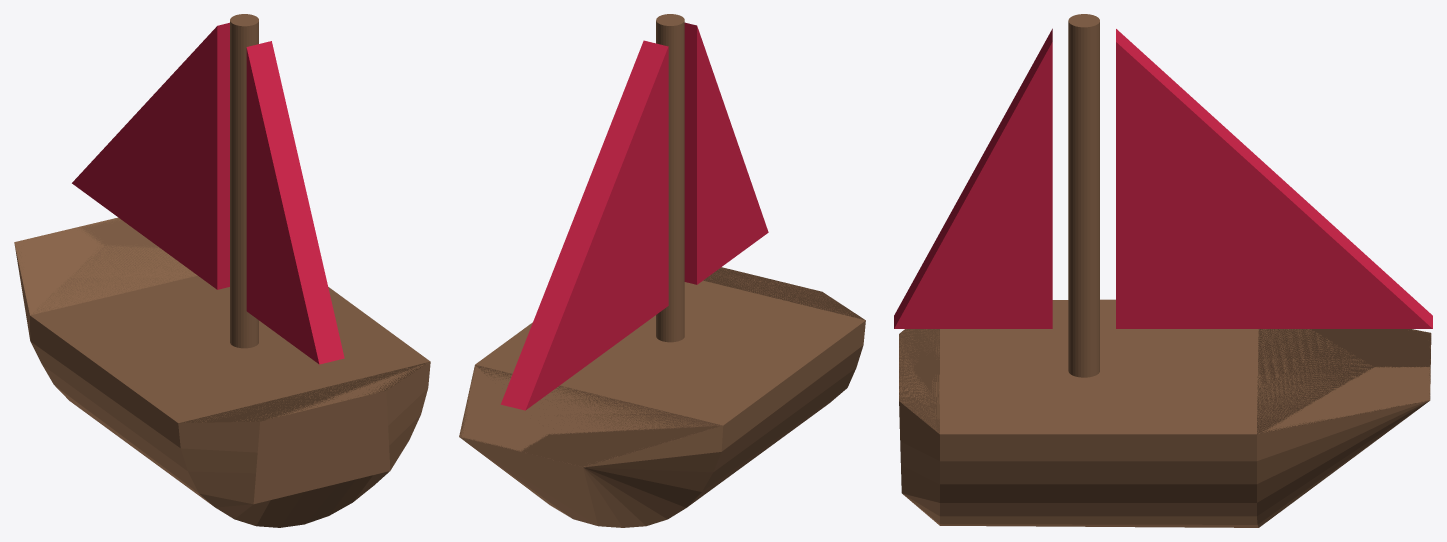
Rendered from sailboat.fbx.
3 renders of one model, left to right at view 1: azimuth 30°, elevation 25°; view 2: azimuth 150°, elevation 25°; view 3: azimuth 270°, elevation 25°, orthographic. The views are drawn at different scales.
Parts seen in each view (by area): view 1: Cylinder, Cube, Cube_001, Cylinder_001; view 2: Cylinder, Cube, Cube_001, Cylinder_001; view 3: Cylinder, Cube, Cube_001, Cylinder_001.
Boxes of the visible parts, box(x1,y1,x2,y2) form: Cylinder: box(14, 217, 430, 527); Cube: box(72, 22, 229, 289); Cube_001: box(246, 41, 344, 364); Cylinder_001: box(230, 14, 258, 348); Cylinder: box(459, 267, 865, 527); Cube: box(500, 40, 668, 410); Cube_001: box(684, 22, 768, 284); Cylinder_001: box(656, 14, 684, 342); Cylinder: box(899, 299, 1431, 527); Cube: box(1116, 29, 1432, 328); Cube_001: box(894, 28, 1052, 328); Cylinder_001: box(1068, 14, 1099, 377).
Size of the model in its own units: 2.01 by 3.45 by 3.4.
